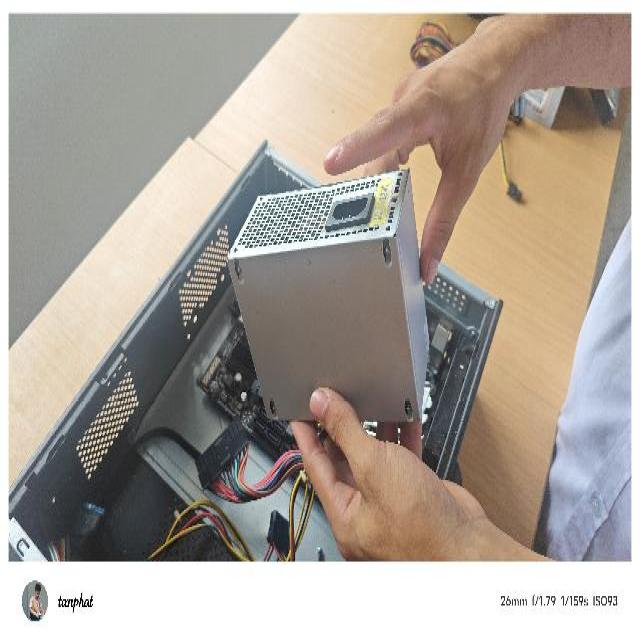PSU: (224, 165, 430, 428)
